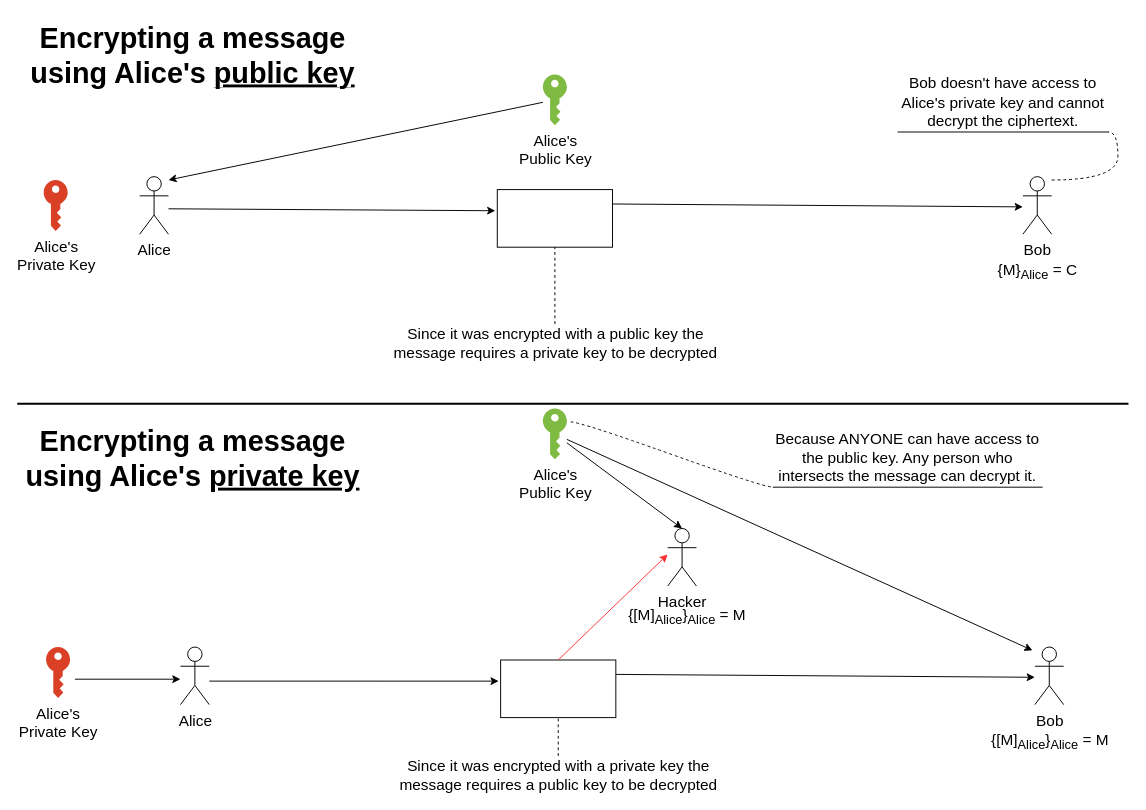
The diagram is 1146 pixels wide and 810 high, and some of its shapes have lost their labels. Each missing label, with the centre of its shape:
"[M] Alice" belongs at point (558, 688).
"{M} Alice" belongs at point (554, 218).
